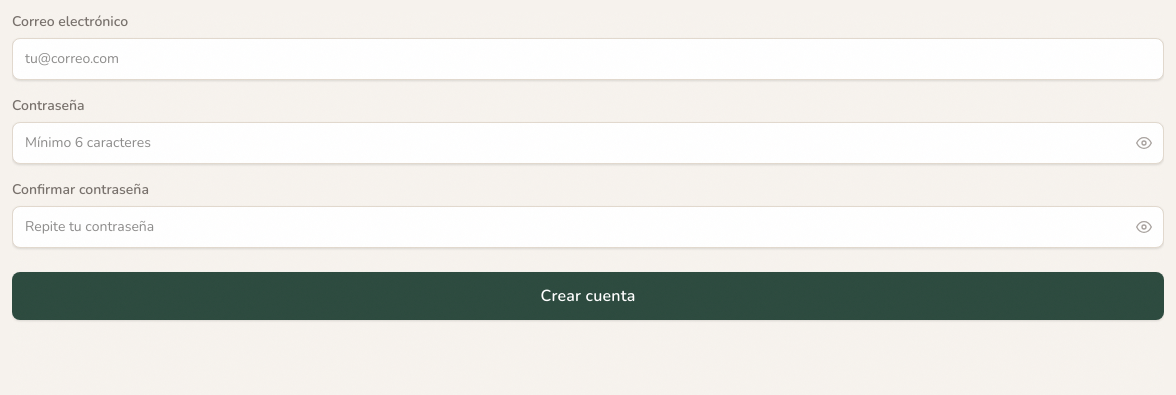
it: RegisterForm › muestra el error del servidor cuando signUp falla
In the field labelled "Correo electrónico": (588, 59) [12, 38, 1164, 80], type "existe@test.com"
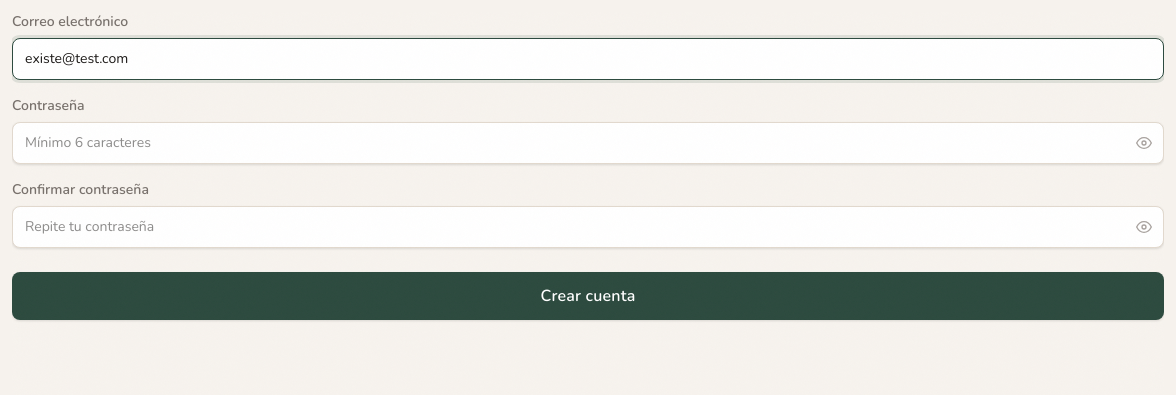
In the password field labelled "Contraseña": (588, 143) [12, 122, 1164, 164], type "password123"
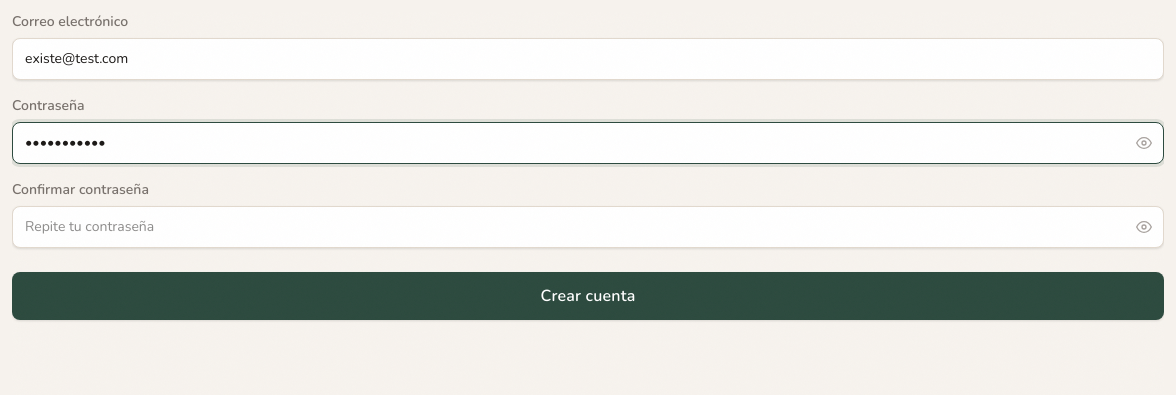
In the password field labelled "Confirmar contraseña": (588, 227) [12, 206, 1164, 248], type "password123"
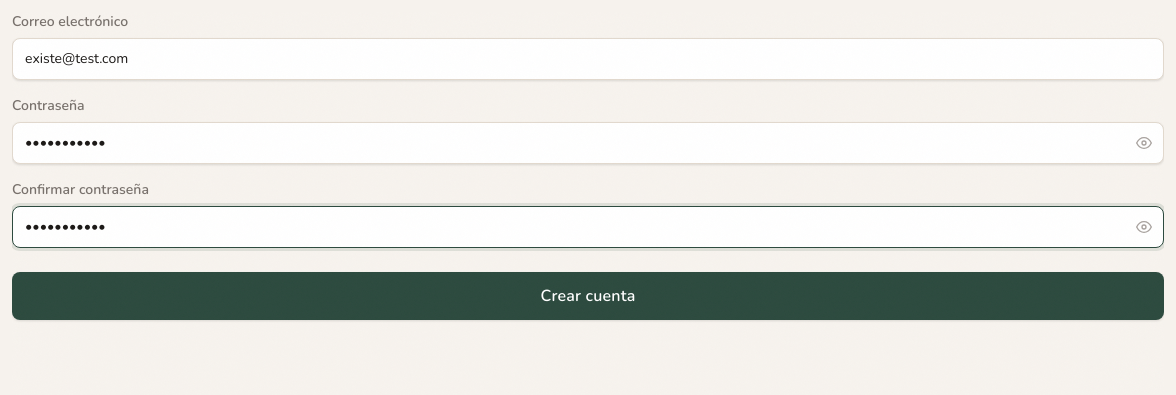
Click the button "Crear cuenta": (588, 296) [12, 272, 1164, 320]
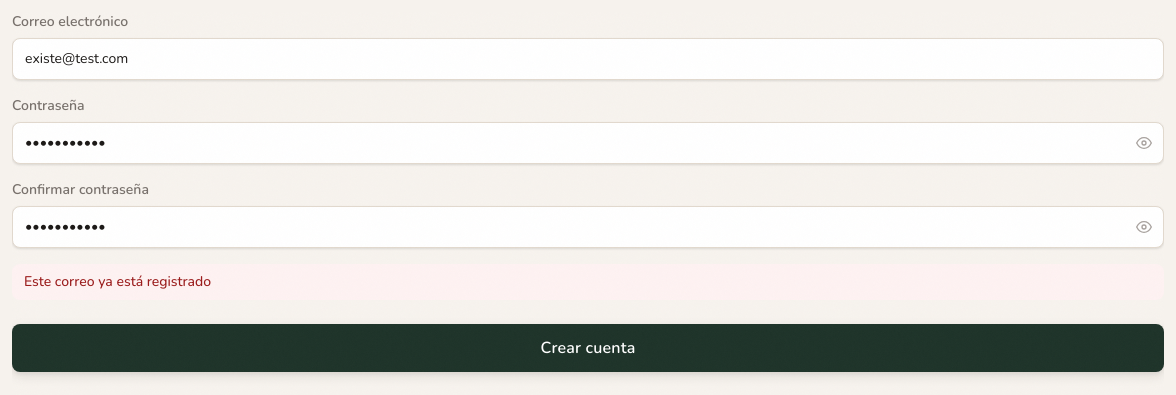
Expected: the text "Este correo ya está registrado" is shown, [12, 264, 1164, 300]
